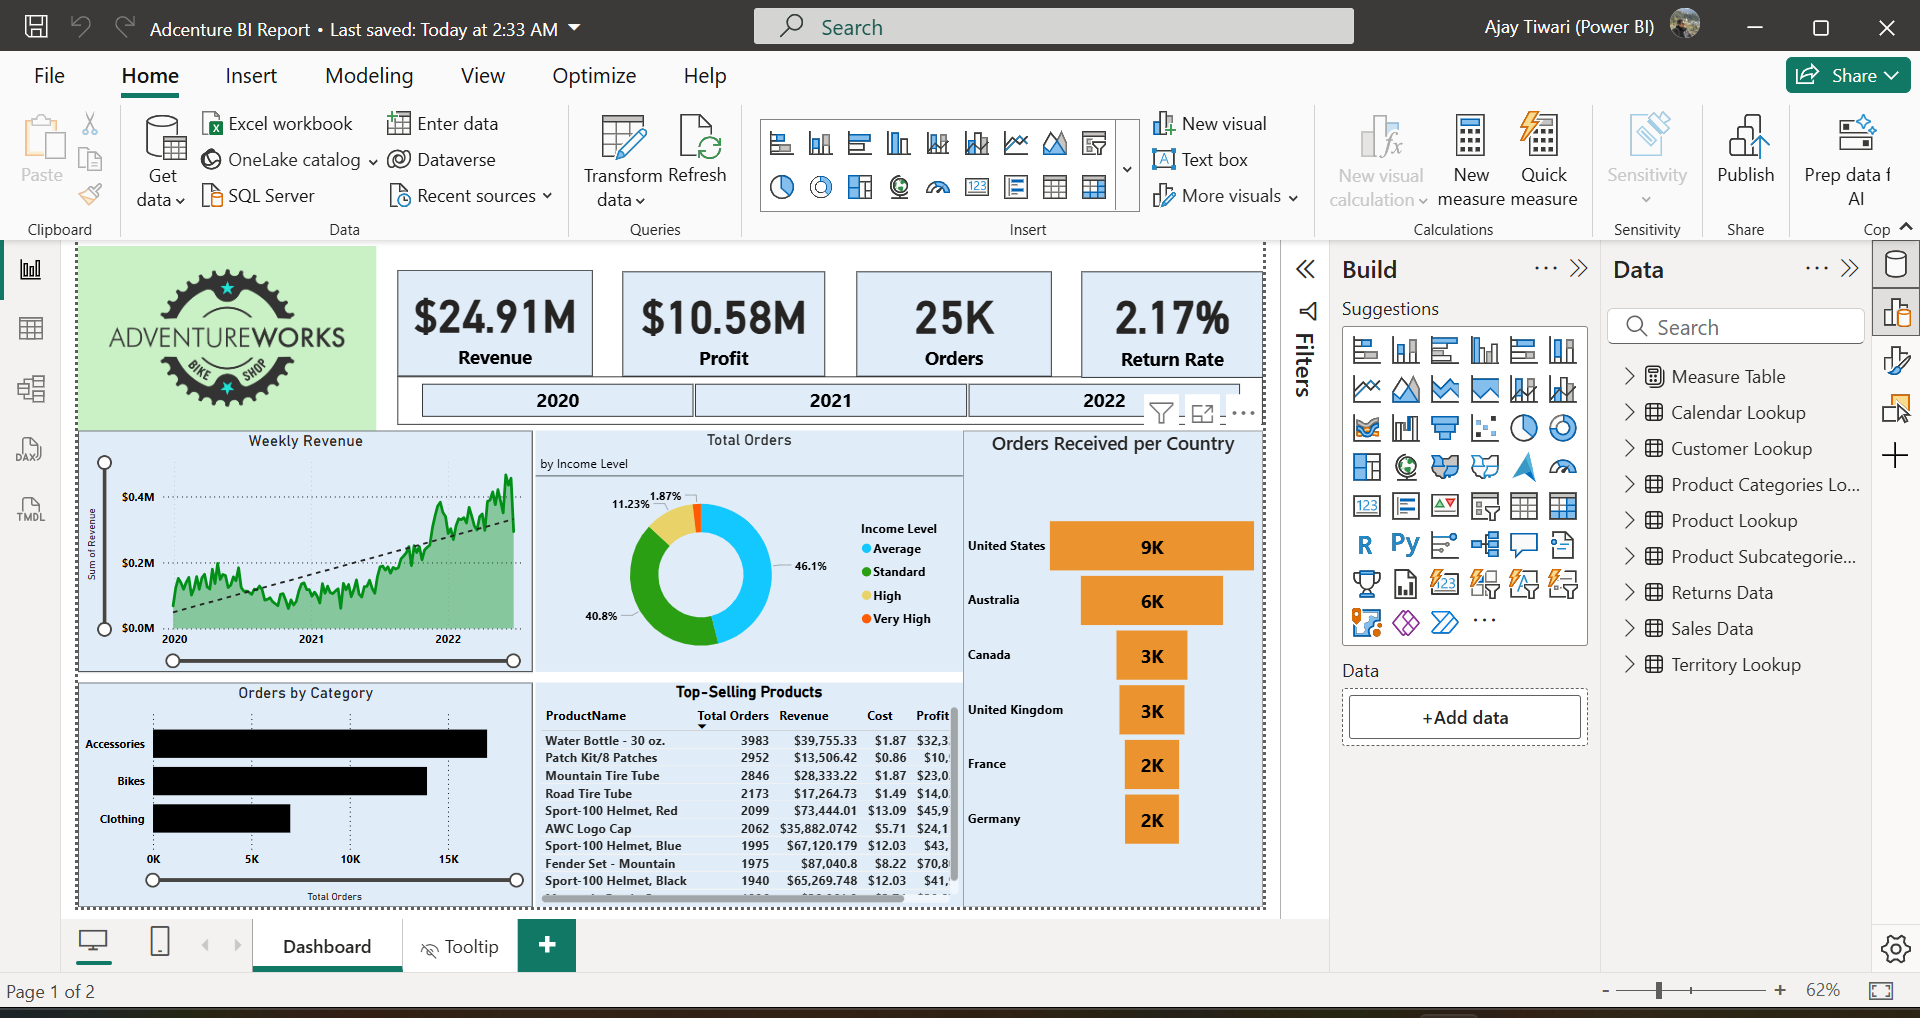

Layout of this report page (visuals, bound fields, positions):
{"tool":"powerbi","page":{"name":"Dashboard","canvas":[1280,720],"ordinal":0},"visuals":[{"type":"image","box":[0,6.5,322.2,199.2],"z":0},{"type":"card","fields":{"Values":["Sum(Sales Data.Profit)"]},"box":[588.3,34.5,218.6,113.3],"z":1000},{"type":"card","fields":{"Values":["Sum(Sales Data.Revenue)"]},"box":[344.9,32.4,210.5,115],"z":2000},{"type":"card","fields":{"Values":["Measure Table.Total Orders"]},"box":[839.8,34,210.5,113.3],"z":3000},{"type":"clusteredBarChart","title":"Orders by Category","fields":{"Category":["Product Categories Lookup.CategoryName"],"Y":["Measure Table.Total Orders"]},"box":[0,477.7,490.6,242.9],"z":4000},{"type":"lineChart","title":"Weekly Revenue","fields":{"Y":["Sum(Sales Data.Revenue)"],"Category":["Calendar Lookup.Date Hierarchy.Start of Week"]},"box":[0,205.6,490.6,260.7],"z":5000},{"type":"donutChart","fields":{"Y":["Measure Table.Total Orders"],"Category":["Customer Lookup.Income Level"]},"box":[493.9,205.6,461.5,260.7],"z":6000},{"type":"tableEx","title":"Top-Selling Products","fields":{"Values":["Product Lookup.ProductName","Measure Table.Total Orders","Sum(Sales Data.Revenue)","Sum(Product Lookup.ProductCost)","Sum(Sales Data.Profit)"]},"box":[493.9,477.7,461.5,242.9],"z":7000},{"type":"slicer","fields":{"Values":["Calendar Lookup.Year"]},"box":[344.9,147.3,934.3,51.8],"z":8000},{"type":"funnel","title":"Orders Received per Country","fields":{"Category":["Territory Lookup.Country"],"Y":["Measure Table.Total Orders"]},"box":[955.3,205.6,323.8,514.9],"z":9000},{"type":"card","fields":{"Values":["Measure Table.Return Rate"]},"box":[1083.3,33.5,195.9,115],"z":11000}]}

Visuals, with their boxes on the page's 1280x720 design canvas (x1, y1, x2, y2). These are canvas units, not pixel positions in the 1920x1018 screenshot, which may show the page scaled, cropped or inside an application window:
image: (left=0, top=6, right=322, bottom=206)
card - Sum(Sales Data.Profit): (left=588, top=34, right=807, bottom=148)
card - Sum(Sales Data.Revenue): (left=345, top=32, right=555, bottom=147)
card - Measure Table.Total Orders: (left=840, top=34, right=1050, bottom=147)
"Orders by Category" clusteredBarChart: (left=0, top=478, right=491, bottom=721)
"Weekly Revenue" lineChart: (left=0, top=206, right=491, bottom=466)
donutChart - Measure Table.Total Orders x Customer Lookup.Income Level: (left=494, top=206, right=955, bottom=466)
"Top-Selling Products" tableEx: (left=494, top=478, right=955, bottom=721)
slicer - Calendar Lookup.Year: (left=345, top=147, right=1279, bottom=199)
"Orders Received per Country" funnel: (left=955, top=206, right=1279, bottom=720)
card - Measure Table.Return Rate: (left=1083, top=34, right=1279, bottom=148)
